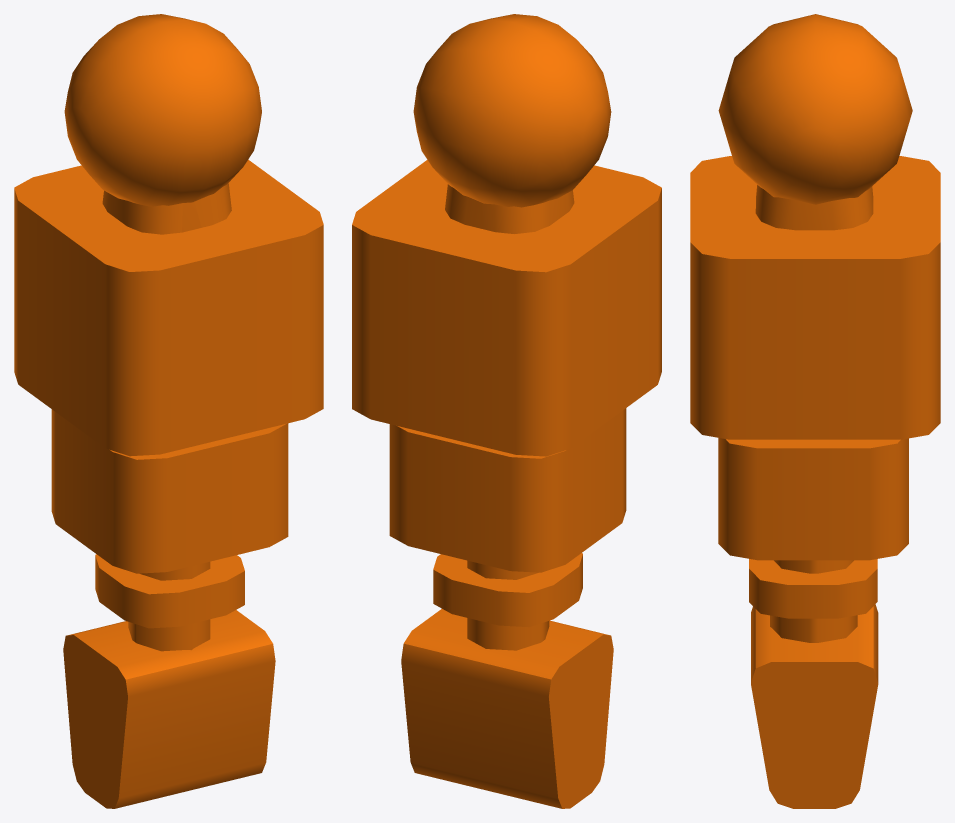
Rendered from JugadorNaranja.fbx.
3 renders of one model, left to right at view 1: azimuth 30°, elevation 25°; view 2: azimuth 150°, elevation 25°; view 3: azimuth 270°, elevation 25°, orthographic.
Parts seen in each view (by area): view 1: polySurface305.024; view 2: polySurface305.024; view 3: polySurface305.024.
Boxes of the visible parts, x1=… form: polySurface305.024: x1=14, y1=14, x2=323, y2=808; polySurface305.024: x1=352, y1=14, x2=661, y2=808; polySurface305.024: x1=690, y1=14, x2=940, y2=808.
Bounding box in the file's own units: 2.68 × 9.09 × 2.75.
